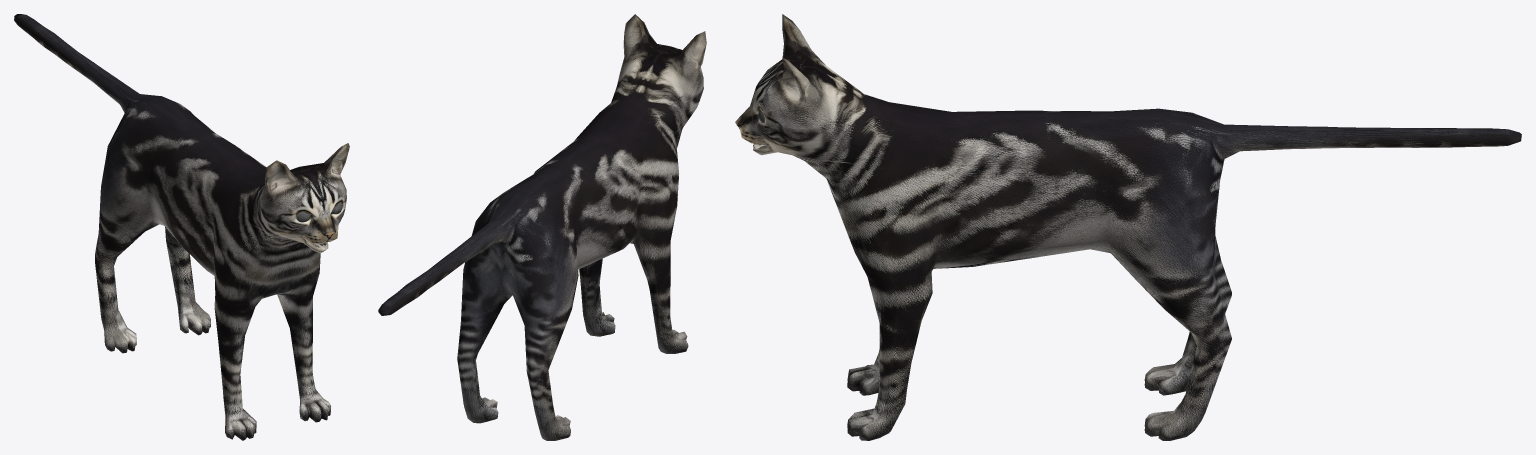
The picture shows the model from 3 angles, left to right: view 1: azimuth 30°, elevation 25°; view 2: azimuth 150°, elevation 25°; view 3: azimuth 270°, elevation 25°; orthographic projection. The views are drawn at different scales.
Visible parts, largest first — view 1: Mesh_0; view 2: Mesh_0; view 3: Mesh_0.
Boxes of the visible parts, x1,y1,x2,y2 form: Mesh_0: (14, 14, 349, 440); Mesh_0: (378, 14, 706, 440); Mesh_0: (735, 14, 1521, 440).
Bounding box in the file's own units: 39.05 × 105 × 200.
Materials: 1 (1 with a texture image).
